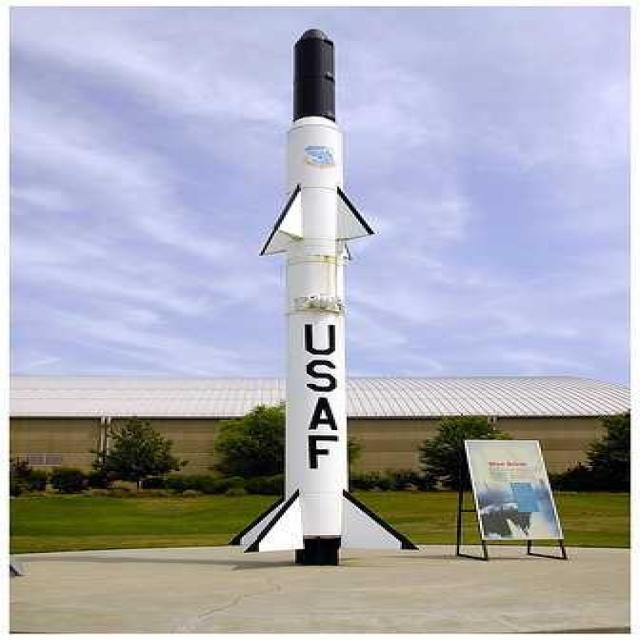missile: (250, 27, 409, 568)
